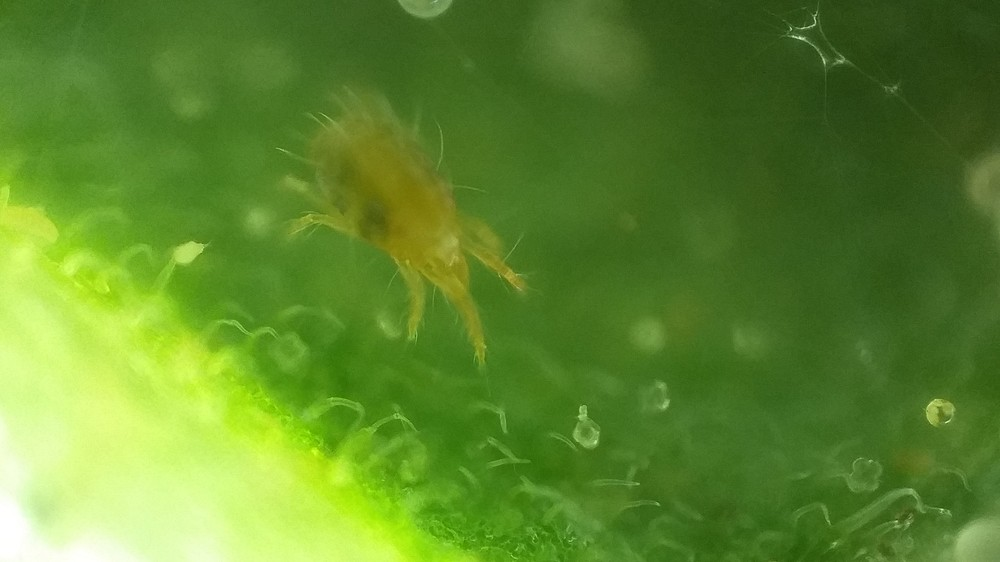Aracnido Rojo: (232, 72, 570, 386)
